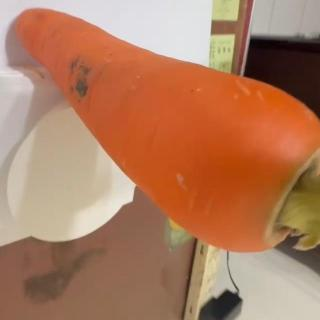carrot: (14, 7, 320, 255)
